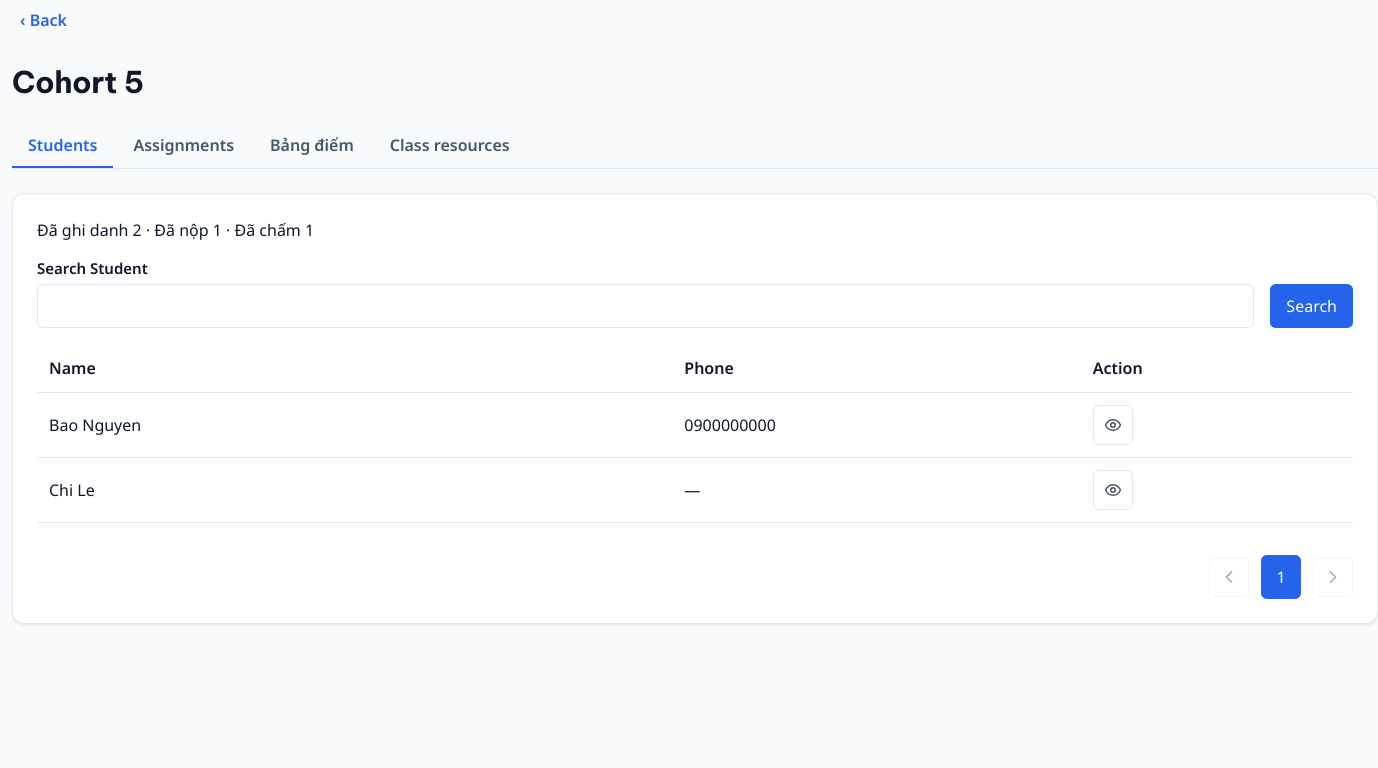
Scenario: Teacher class page › renders the Assignments tab table with counts, status and edit-disabled past due date
The image size is (1378, 768).
Expected: the heading "Cohort 5" is shown, [12, 64, 144, 100]
Click the tab "Assignments" at (184, 146), box [118, 124, 250, 168]
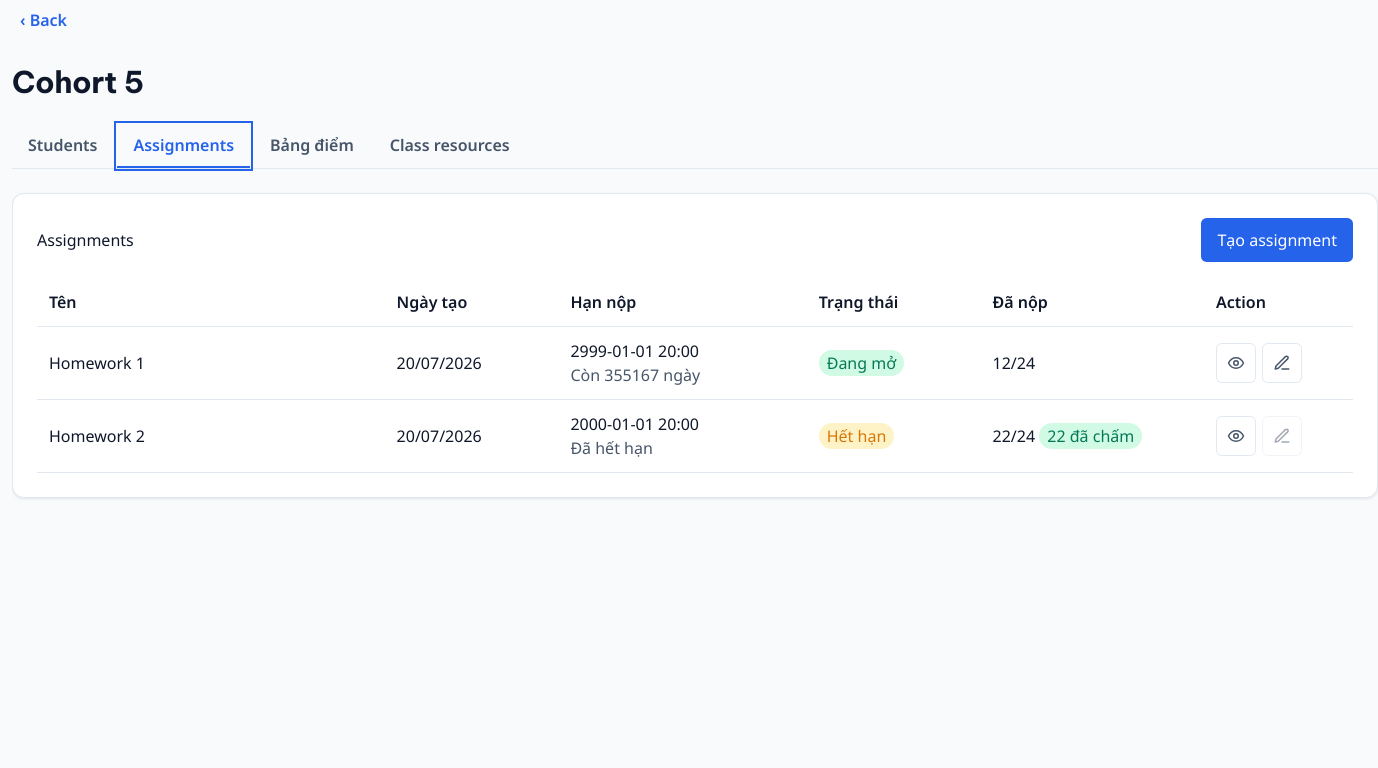
Now the text "Homework 1" is shown, box [49, 352, 145, 374]
Now the text "12/24" is shown, box [980, 326, 1204, 400]
Now the text "22/24" is shown, box [980, 400, 1204, 472]
